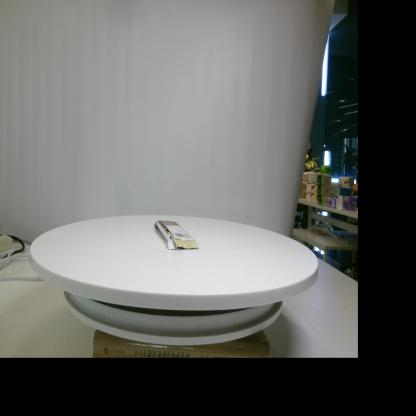Chocolate: (154, 220, 199, 250)
